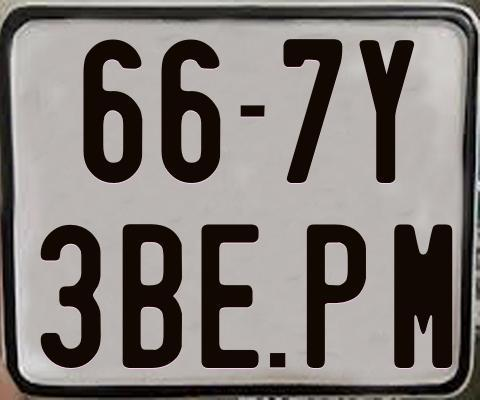3: (40, 222, 106, 370)
6: (81, 36, 147, 181), (161, 36, 222, 183)
7: (283, 38, 348, 185)
B: (122, 221, 186, 367)
E: (201, 224, 260, 373)
M: (392, 224, 453, 373)
P: (306, 223, 369, 373)
Y: (358, 37, 418, 183)
